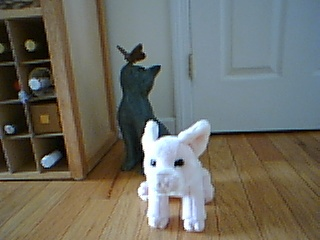piggy: (137, 118, 216, 234)
